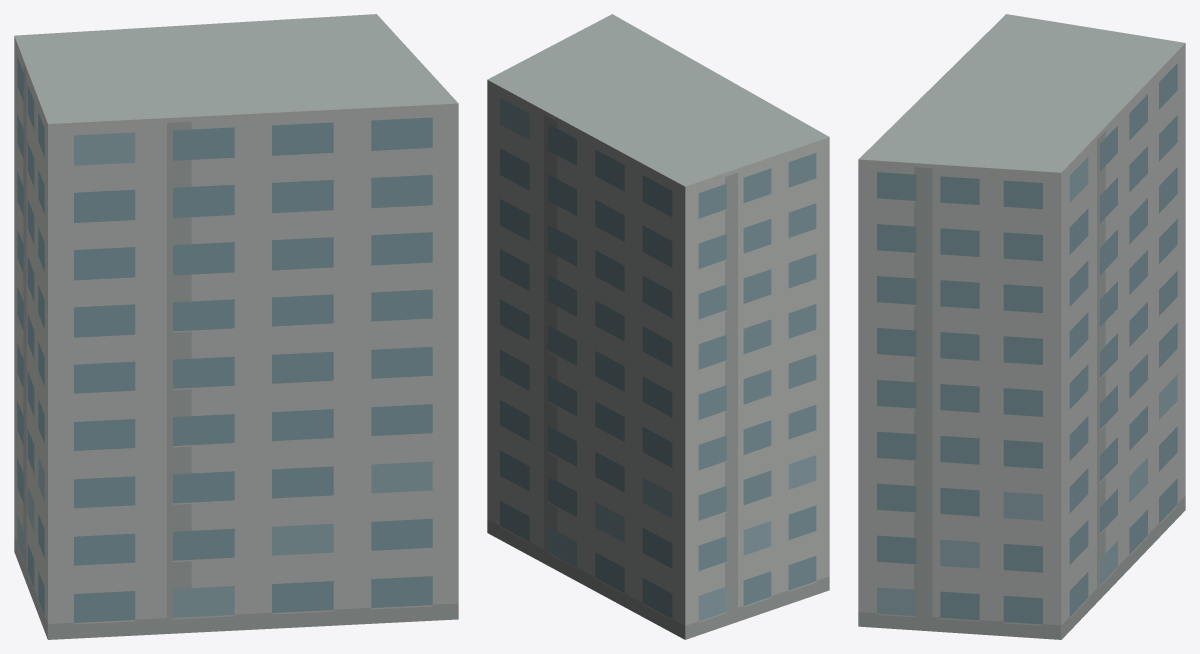
Rendered from survey-upis-32508940.glb.
3 views of the same model, side by side, from view 1: azimuth 30°, elevation 25°; view 2: azimuth 150°, elevation 25°; view 3: azimuth 270°, elevation 25° (orthographic). The views are drawn at different scales.
Visible parts, largest first — view 1: survey-upis-32508940.tmp; view 2: survey-upis-32508940.tmp; view 3: survey-upis-32508940.tmp.
Boxes of the visible parts, bbox=[...] form: survey-upis-32508940.tmp: bbox=[14, 14, 458, 639]; survey-upis-32508940.tmp: bbox=[487, 14, 829, 639]; survey-upis-32508940.tmp: bbox=[858, 14, 1185, 639].
Bounding box in the file's own units: 20.02 × 27.45 × 17.44.
